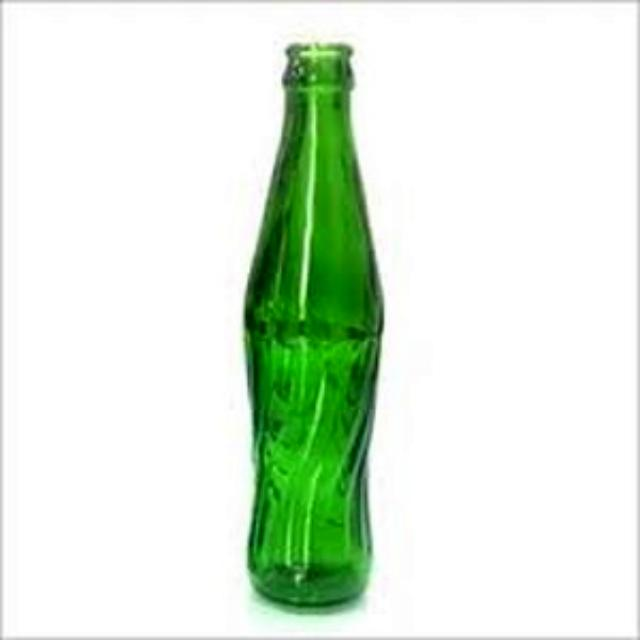Glass: (240, 36, 386, 612)
